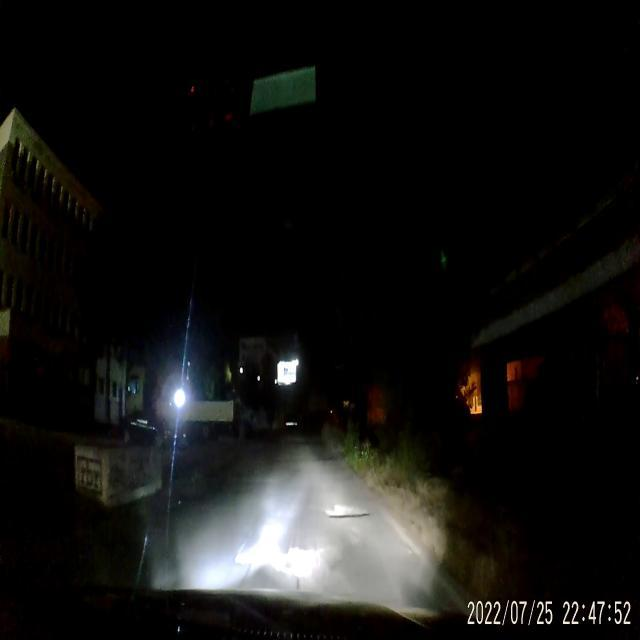Pothole: (236, 535, 357, 595), (326, 499, 368, 524)
